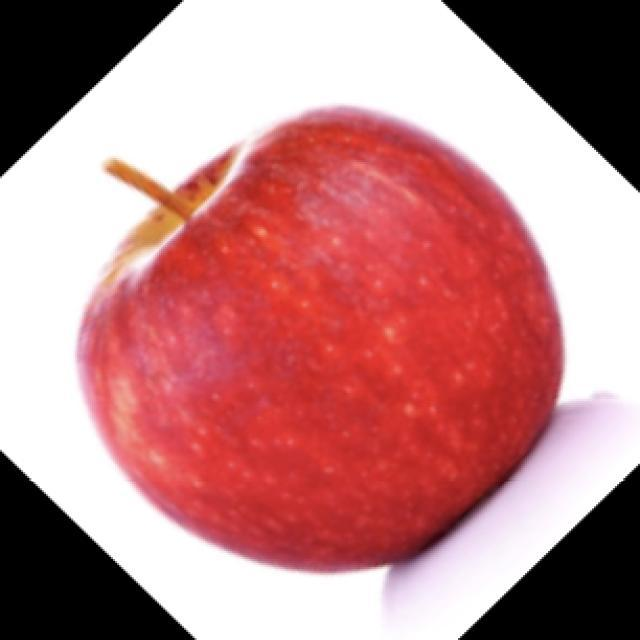Apple: (74, 103, 565, 574)
